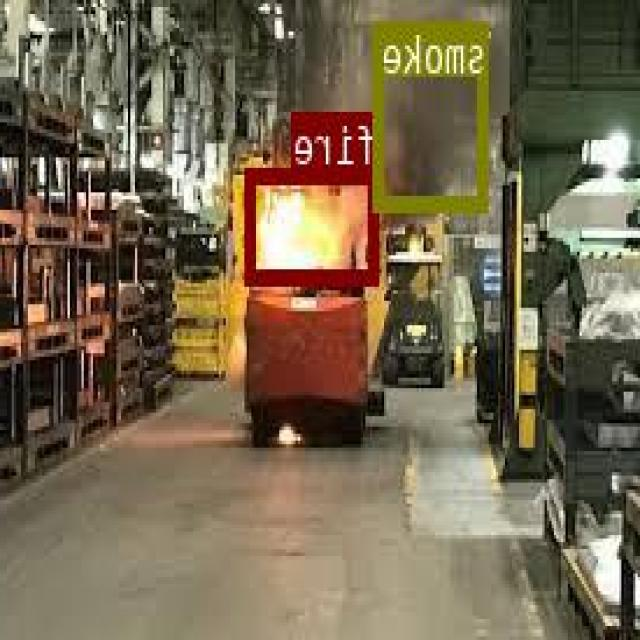fire: (247, 165, 380, 282)
smoke: (376, 18, 491, 208)
